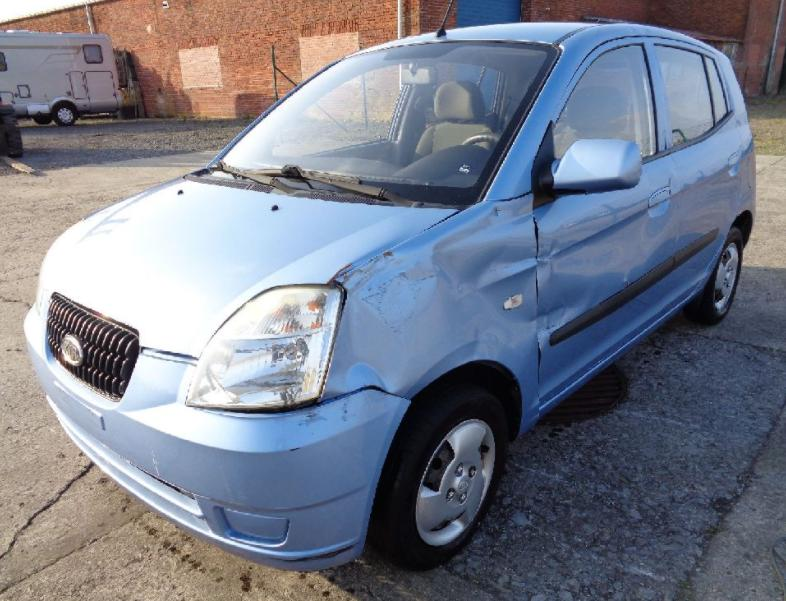Back-door: (647, 37, 745, 302)
Back-wheel: (684, 226, 743, 323)
Back-window: (654, 45, 713, 146), (706, 58, 726, 122)
Fender: (320, 193, 538, 413)
Front-bumper: (23, 288, 411, 572)
Front-door: (531, 37, 678, 400)
Front-wheel: (367, 380, 509, 570)
Front-window: (553, 45, 657, 158)
Grille: (47, 292, 139, 402)
Headlight: (186, 284, 344, 413), (35, 246, 52, 315)
Hood: (44, 174, 464, 358)
Mirror: (531, 121, 642, 210)
Quarter-panel: (705, 109, 756, 279)
Rocker-panel: (517, 275, 710, 439)
Roof: (342, 22, 731, 65)
Windshield: (208, 41, 562, 206)
